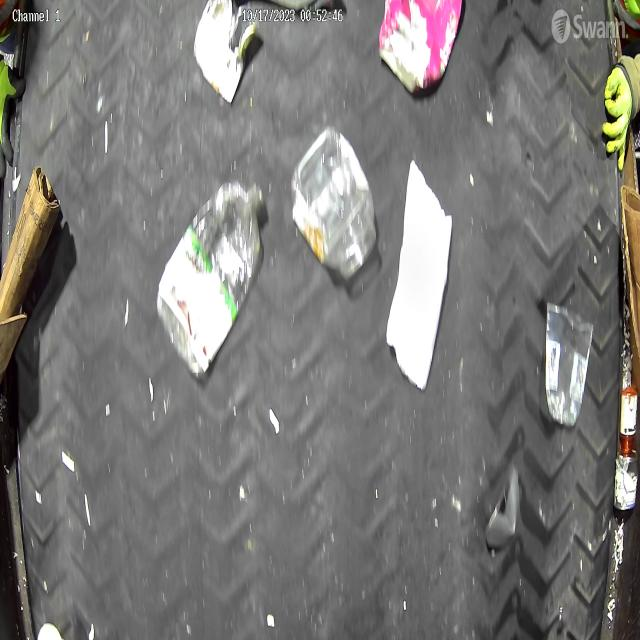can: (614, 446, 637, 509)
non_white_jug: (378, 0, 463, 91)
plastic_bottle: (158, 178, 268, 381)
